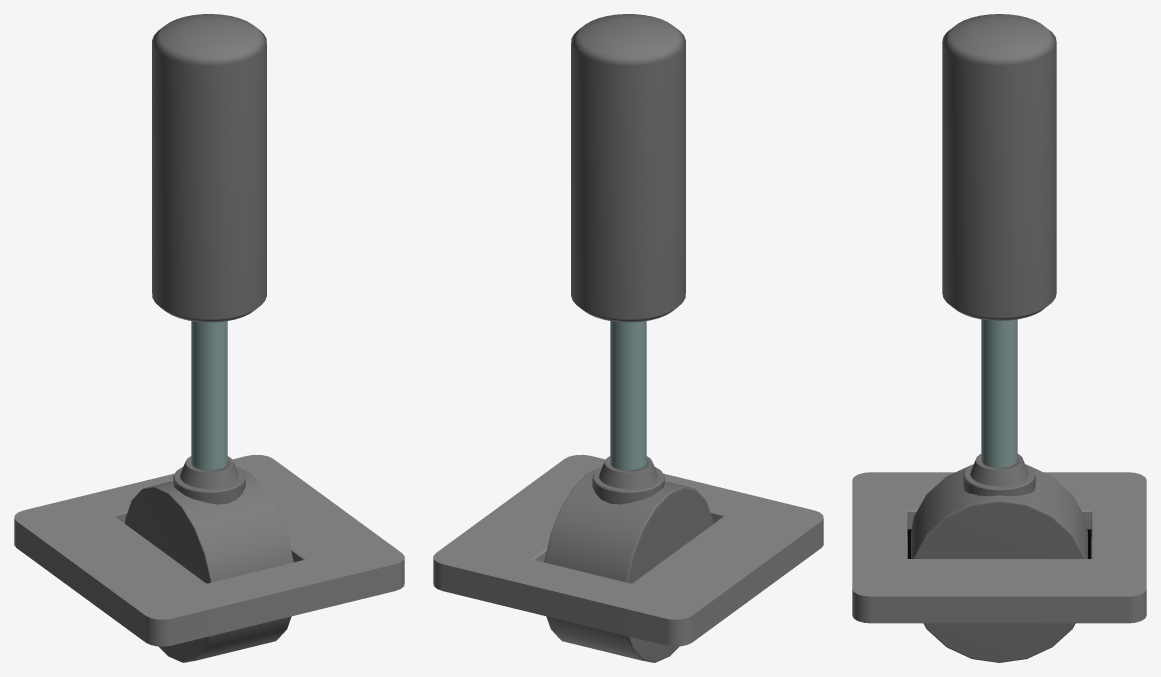
File: Lever.fbx
The picture shows the model from 3 angles, left to right: view 1: azimuth 30°, elevation 25°; view 2: azimuth 150°, elevation 25°; view 3: azimuth 270°, elevation 25°; orthographic projection.
Parts seen in each view (by area): view 1: LeverStick, LeverPlate; view 2: LeverStick, LeverPlate; view 3: LeverStick, LeverPlate.
Part boxes in pixels (bbox=[...]): LeverStick: bbox=[125, 14, 293, 662]; LeverPlate: bbox=[14, 454, 404, 646]; LeverStick: bbox=[544, 14, 712, 662]; LeverPlate: bbox=[433, 454, 823, 646]; LeverStick: bbox=[911, 14, 1087, 662]; LeverPlate: bbox=[852, 472, 1146, 623].
Size of the model in its own units: 12.76 by 29.42 by 12.76.
